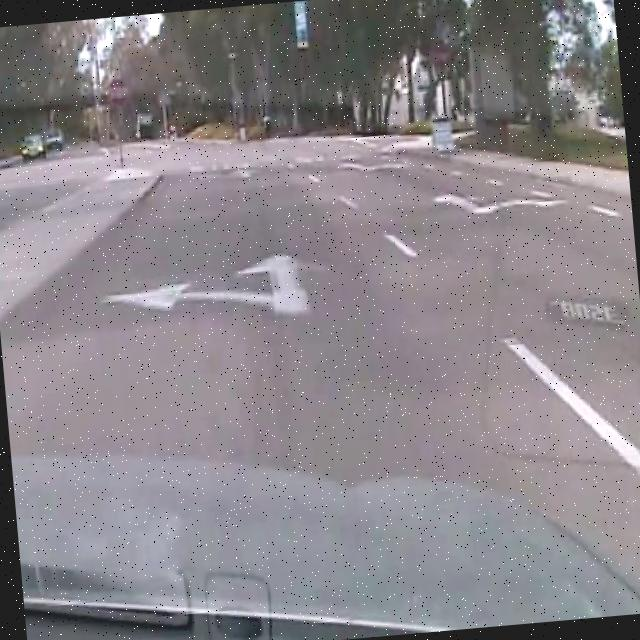Stop: (105, 75, 131, 109)
